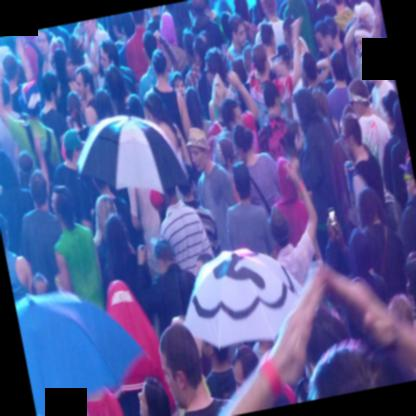backpack: (24, 122, 55, 185)
handbag: (251, 174, 271, 213), (378, 224, 388, 284)
